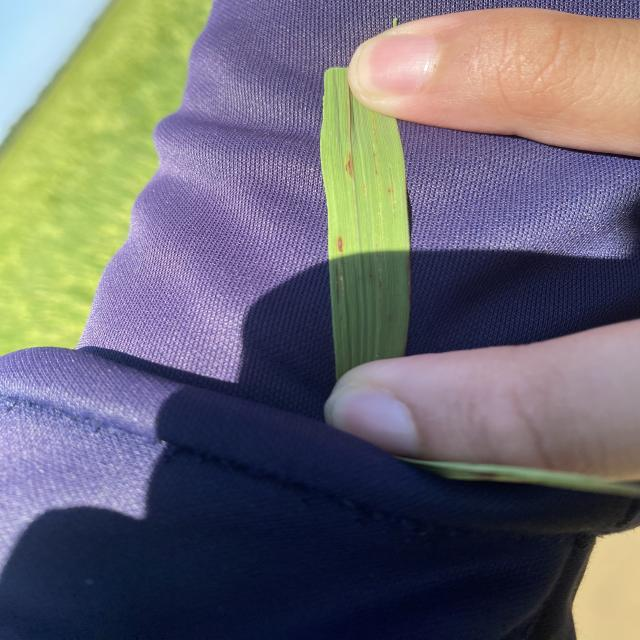Dom nau: (338, 237, 342, 252)
